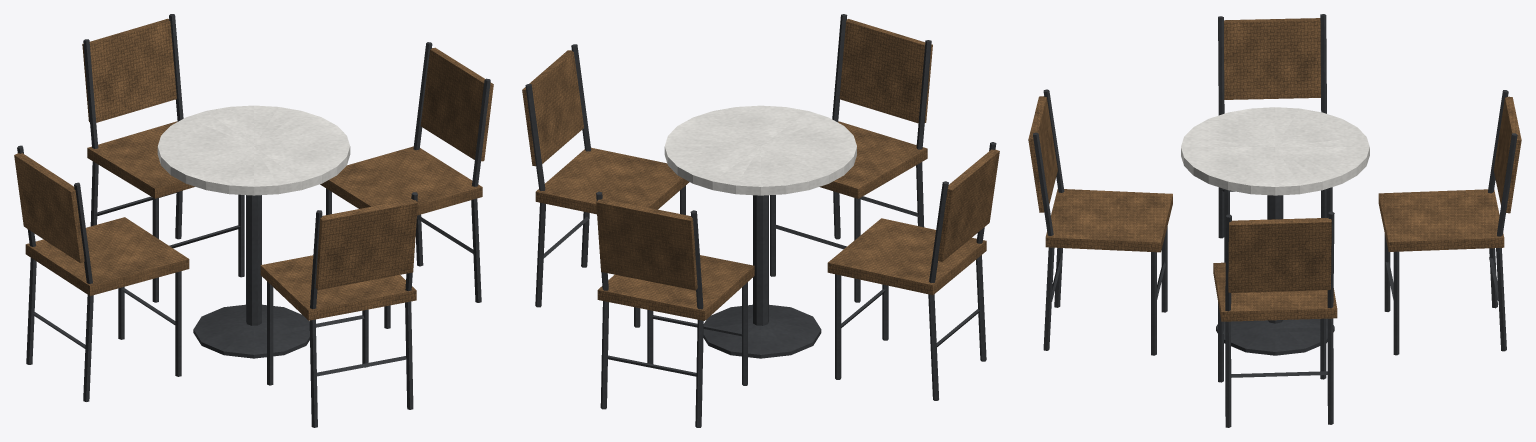
Rendered from SM_Morin_TavoloSet.fbx.
3 views of the same model, side by side, from view 1: azimuth 30°, elevation 25°; view 2: azimuth 150°, elevation 25°; view 3: azimuth 270°, elevation 25° (orthographic).
Visible parts, largest first — view 1: SM_Morin_TavoloSet; view 2: SM_Morin_TavoloSet; view 3: SM_Morin_TavoloSet.
Boxes of the visible parts, x1,y1,x2,y2 form: SM_Morin_TavoloSet: [14, 14, 493, 427]; SM_Morin_TavoloSet: [522, 14, 999, 427]; SM_Morin_TavoloSet: [1028, 14, 1521, 427].
Size of what is drawn, in the model's own units: 182 by 183 by 88.22.
1 material, 1 textured.
